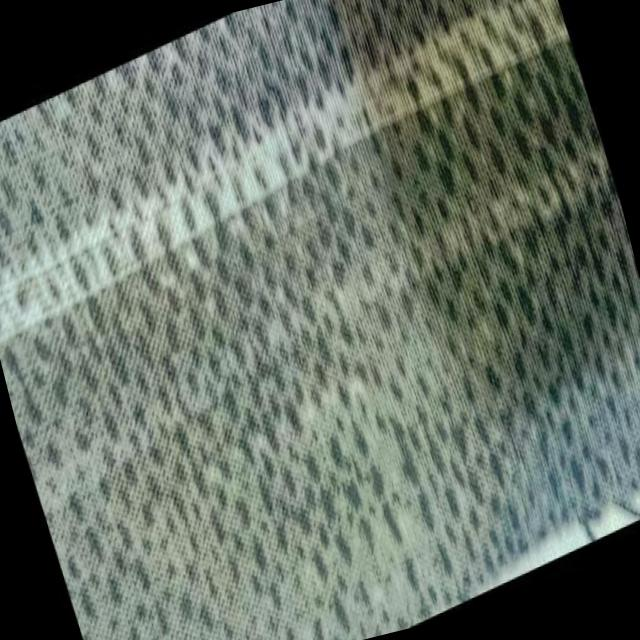selvet: (272, 137, 633, 340), (1, 292, 326, 512), (242, 0, 587, 186), (0, 133, 302, 339)
